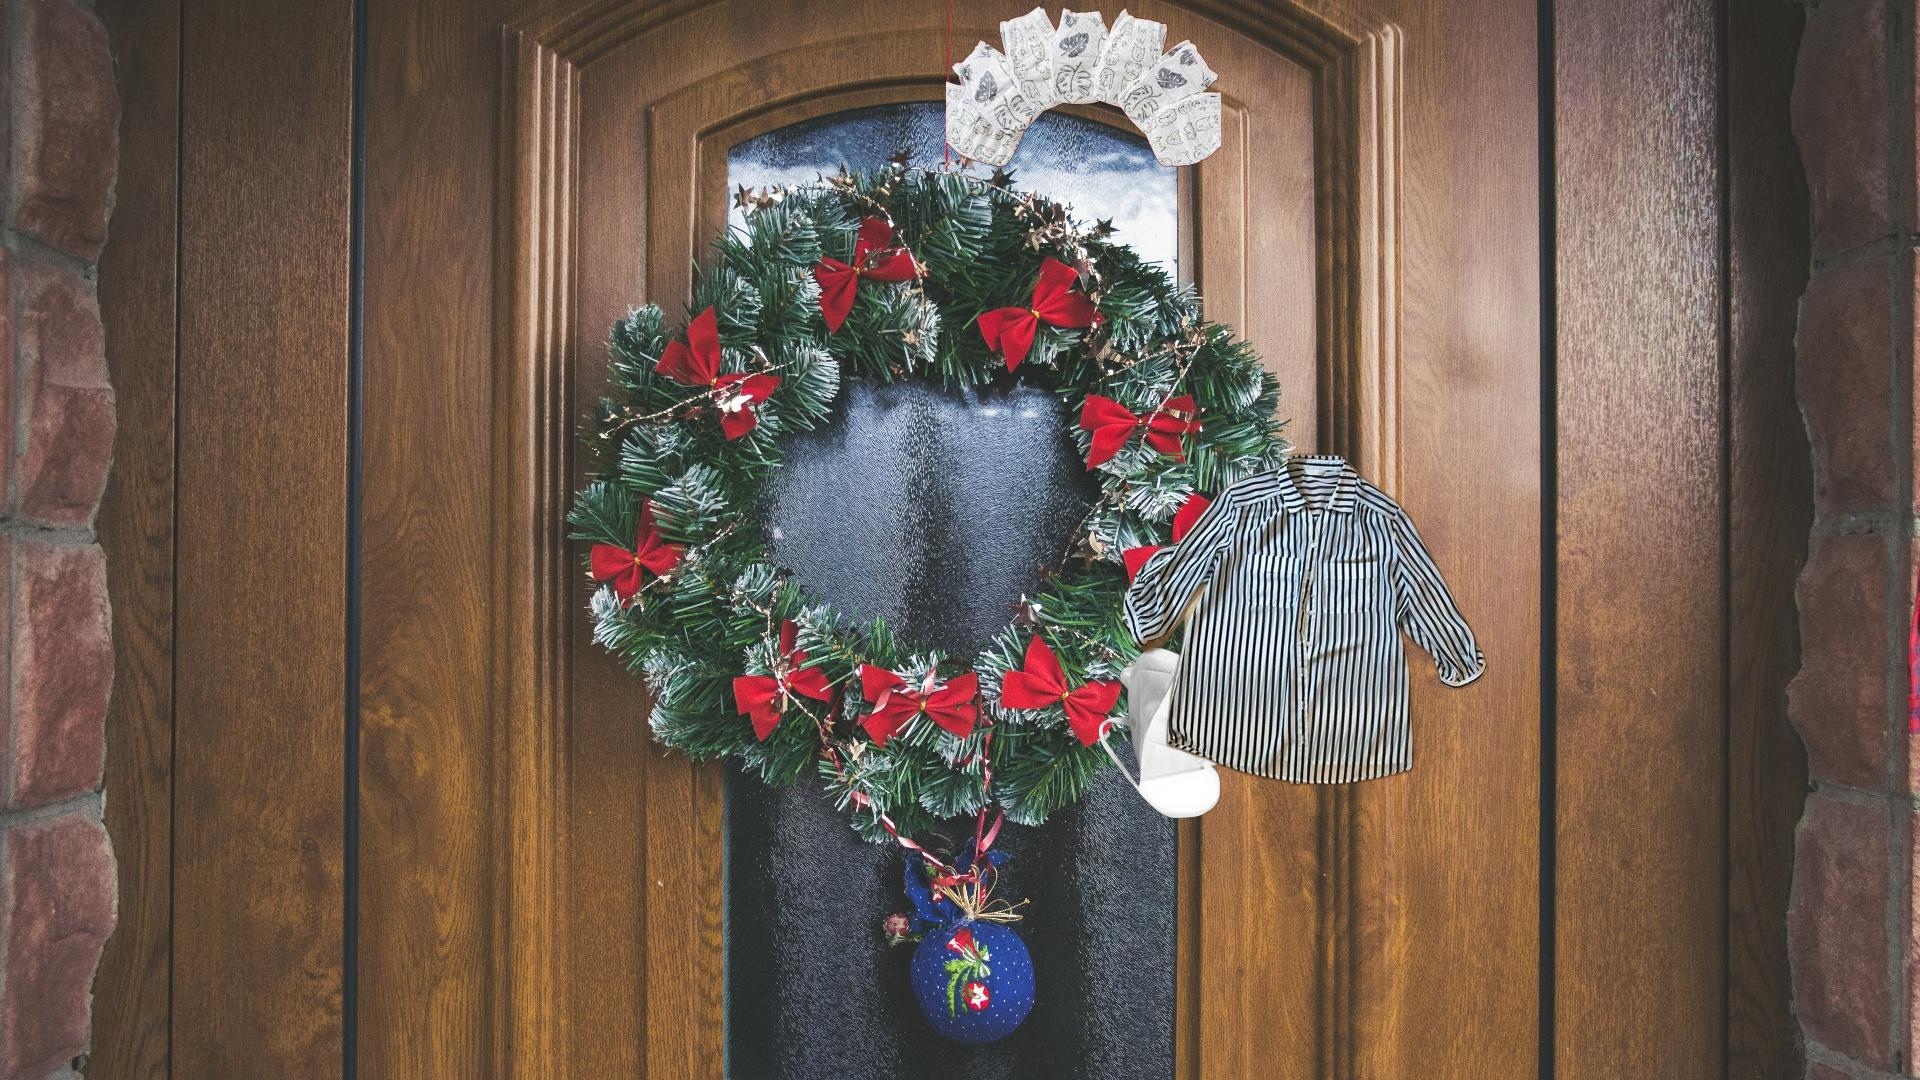clothes: (1118, 450, 1490, 790), (1904, 368, 1920, 756)
penholder: (1774, 992, 1920, 1080)
trash: (945, 3, 1221, 171), (1096, 644, 1262, 822)
